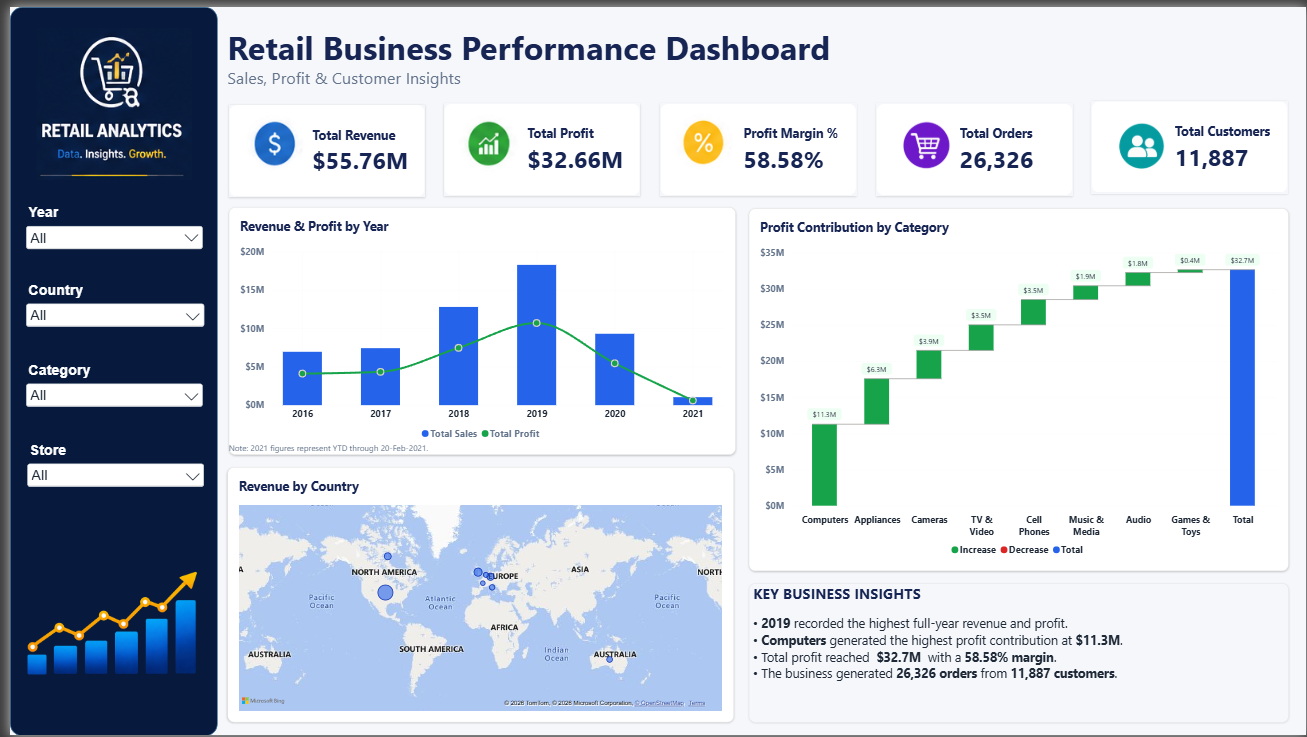

What the dashboard file says about the page in this screenshot:
{"tool":"powerbi","page":{"name":"Executive Sales Overview","canvas":[1920,1080],"ordinal":0},"visuals":[{"type":"shape","box":[0,0,307.6,1080.4],"z":0},{"type":"slicer","fields":{"Values":["Calendar.Date.Variation.Date Hierarchy.Year"]},"box":[11.1,284.4,287.7,101],"z":1000},{"type":"slicer","fields":{"Values":["customers.country"]},"box":[10.9,407.2,289.5,99.5],"z":2000},{"type":"slicer","fields":{"Values":["products.category"]},"box":[10.9,526.6,287.7,76],"z":3000},{"type":"slicer","fields":{"Values":["stores.store_key"]},"box":[13.3,644.4,287.7,76],"z":4000},{"type":"image","box":[0,720.4,308.2,359.2],"z":5000},{"type":"image","box":[0,32.1,308.9,225],"z":6000},{"type":"cardVisual","fields":{"Data":["sales.Total Sales"]},"box":[323.6,143.7,291.4,137.5],"z":7000},{"type":"image","box":[336.2,156.4,110.4,112.2],"z":8000},{"type":"textbox","box":[322.1,25.3,998.9,85.1],"z":9000},{"type":"textbox","box":[322.1,88.7,562.8,48.9],"z":10000},{"type":"cardVisual","fields":{"Data":["sales.Total Profit"]},"box":[643.3,142.1,291.4,137.5],"z":11000},{"type":"image","box":[652.9,156.4,110.4,112.2],"z":12000},{"type":"cardVisual","fields":{"Data":["sales.Total Profit %"]},"box":[963.1,142.1,291.4,137.5],"z":13000},{"type":"image","box":[971.4,154.5,110.4,112.2],"z":14000},{"type":"cardVisual","fields":{"Data":["sales.Order Number"]},"box":[1282.9,142.1,291.4,137.5],"z":15000},{"type":"image","box":[1321.1,162.9,76,105],"z":16000},{"type":"cardVisual","fields":{"Data":["sales.Total Customers"]},"box":[1602.6,138.3,291.4,137.5],"z":17000},{"type":"image","box":[1641.4,164.7,72.4,103.2],"z":18000},{"type":"lineClusteredColumnComboChart","title":"Revenue & Profit by Year","fields":{"Category":["Calendar.Date.Variation.Date Hierarchy.Year"],"Y":["sales.Total Sales"],"Y2":["sales.Total Profit"]},"box":[323.9,296.8,751,367.4],"z":19000},{"type":"waterfallChart","title":"Profit Contribution by Category","fields":{"Y":["sales.Total Profit"],"Category":["products.Category Short"]},"box":[1094.8,298.6,799.9,537.5],"z":20000},{"type":"map","title":"Revenue by Country","fields":{"Size":["sales.Total Sales"],"Category":["customers.country"]},"box":[322.1,682.2,750,378.2],"z":21000},{"type":"textbox","box":[1094.8,854.2,799.9,206.3],"z":22000},{"type":"textbox","box":[324.4,644.4,300,32],"z":23000}]}

Visuals, with their boxes in screenshot pixels (x1, y1, x2, y2), scaled from the page's 1920x1080 canvas onto the 1307x737 screenshot:
shape: (left=0, top=0, right=209, bottom=736)
slicer - Calendar.Date.Variation.Date Hierarchy.Year: (left=8, top=194, right=203, bottom=263)
slicer - customers.country: (left=7, top=278, right=204, bottom=346)
slicer - products.category: (left=7, top=359, right=203, bottom=411)
slicer - stores.store_key: (left=9, top=440, right=205, bottom=492)
image: (left=0, top=492, right=210, bottom=736)
image: (left=0, top=22, right=210, bottom=175)
cardVisual - sales.Total Sales: (left=220, top=98, right=419, bottom=192)
image: (left=229, top=107, right=304, bottom=183)
textbox: (left=219, top=17, right=899, bottom=75)
textbox: (left=219, top=61, right=602, bottom=94)
cardVisual - sales.Total Profit: (left=438, top=97, right=636, bottom=191)
image: (left=444, top=107, right=520, bottom=183)
cardVisual - sales.Total Profit %: (left=656, top=97, right=854, bottom=191)
image: (left=661, top=105, right=736, bottom=182)
cardVisual - sales.Order Number: (left=873, top=97, right=1072, bottom=191)
image: (left=899, top=111, right=951, bottom=183)
cardVisual - sales.Total Customers: (left=1091, top=94, right=1289, bottom=188)
image: (left=1117, top=112, right=1167, bottom=183)
"Revenue & Profit by Year" lineClusteredColumnComboChart: (left=220, top=203, right=732, bottom=453)
"Profit Contribution by Category" waterfallChart: (left=745, top=204, right=1290, bottom=571)
"Revenue by Country" map: (left=219, top=466, right=730, bottom=724)
textbox: (left=745, top=583, right=1290, bottom=724)
textbox: (left=221, top=440, right=425, bottom=462)
